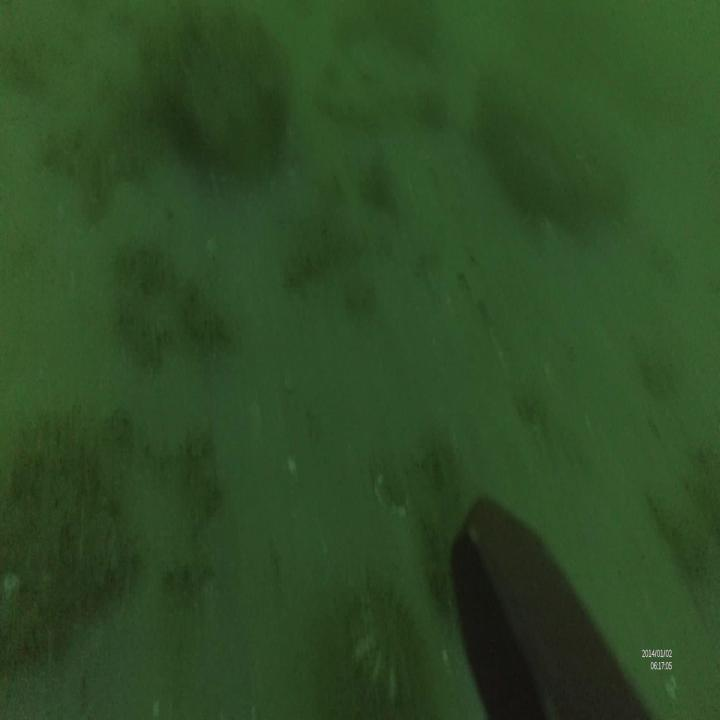echinus: (348, 566, 428, 708)
